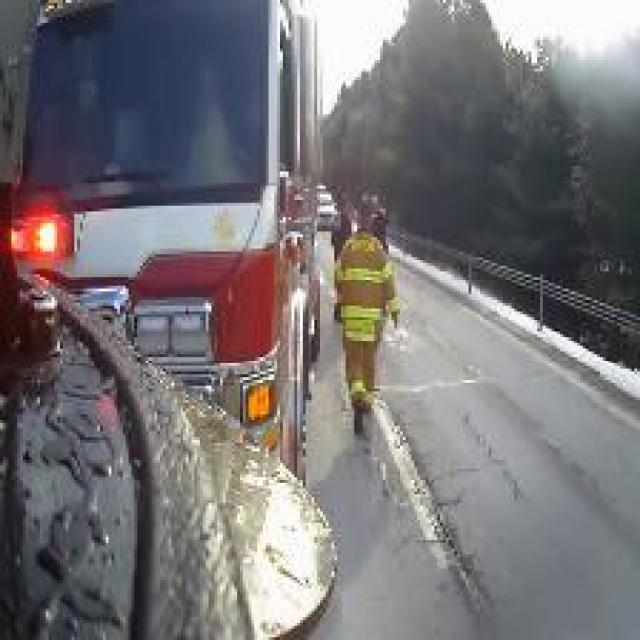other: (132, 237, 274, 428), (314, 237, 399, 420), (17, 198, 70, 263)
